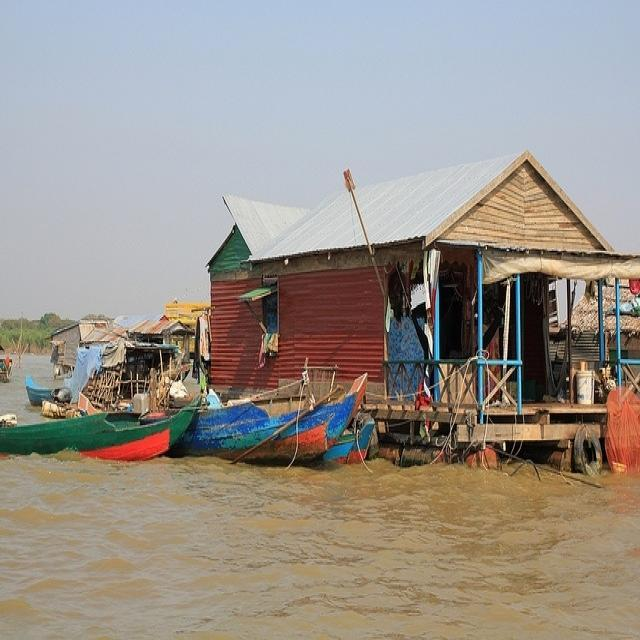boat: (0, 377, 212, 468), (19, 371, 68, 407)
